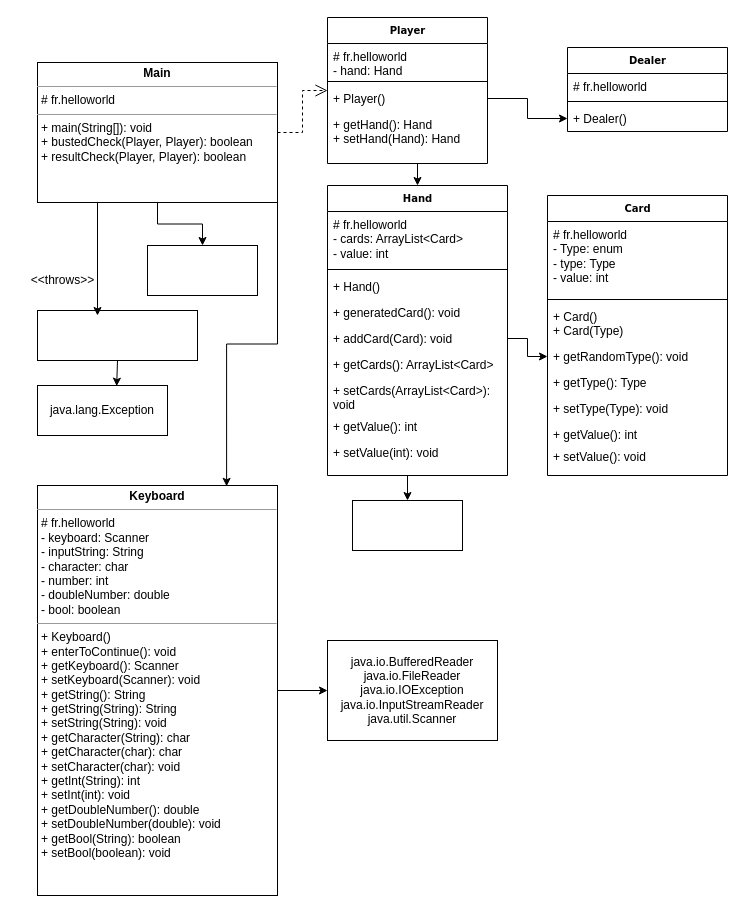
The diagram is 745 pixels wide and 913 high, and some of its shapes have lost their labels. Each missing label, with the centre of its shape:
"FileNotFoundException" belongs at (117,335).
"java.util.* java.io.*" belongs at (202,270).
"java.util.ArrayList" belongs at (407,525).
